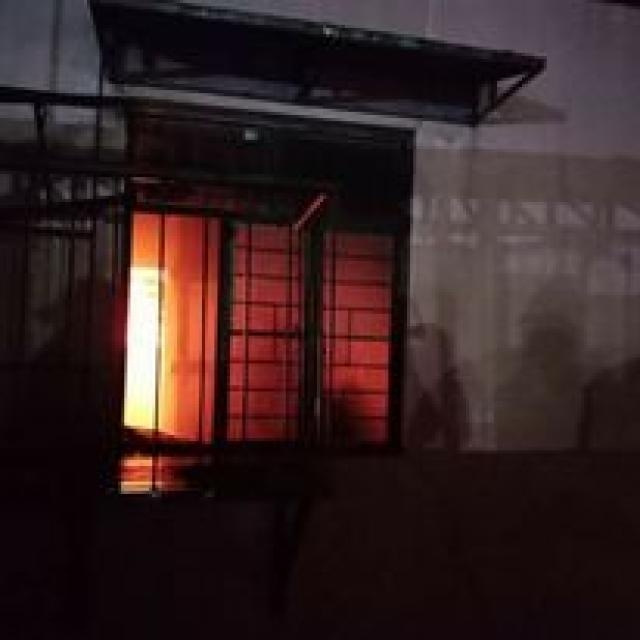Fire: (131, 252, 188, 492)
